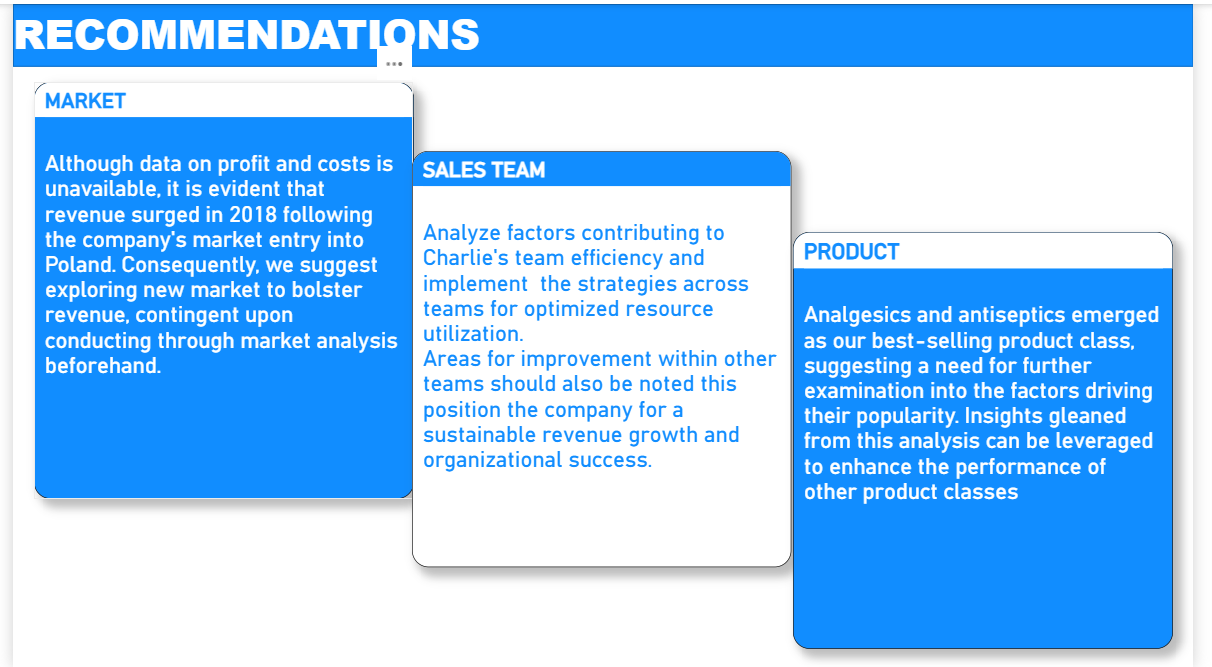

Layout of this report page (visuals, bound fields, positions):
{"tool":"powerbi","page":{"name":"RECOMMENDATIONS","canvas":[1280,720],"ordinal":2},"visuals":[{"type":"shape","box":[0,0,1280,68],"z":0},{"type":"textbox","title":"MARKET","box":[22,84,412,452],"z":1000},{"type":"textbox","title":"SALES TEAM","box":[432.9,160,411.4,451.4],"z":2000},{"type":"textbox","title":"PRODUCT","box":[846,248,412,452],"z":3000}]}

Visuals, with their boxes in screenshot pixels (x1, y1, x2, y2), scaled from the page's 1280x720 canvas onto the 1212x667 screenshot:
shape: <box>0,0,1211,63</box>
"MARKET" textbox: <box>21,78,411,497</box>
"SALES TEAM" textbox: <box>410,148,799,566</box>
"PRODUCT" textbox: <box>801,230,1191,648</box>
